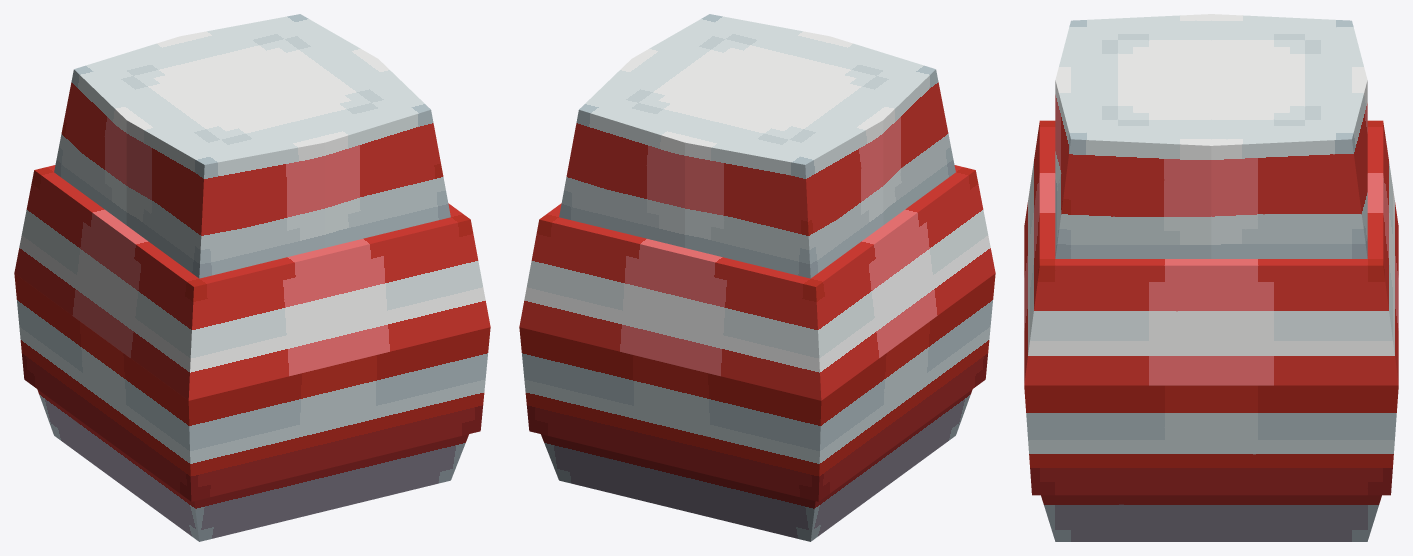
File: line-egg-2.gltf
3 renders of one model, left to right at view 1: azimuth 30°, elevation 25°; view 2: azimuth 150°, elevation 25°; view 3: azimuth 270°, elevation 25°, orthographic. The views are drawn at different scales.
Parts seen in each view (by area): view 1: cube (×3); view 2: cube (×3); view 3: cube (×3).
Boxes of the visible parts, <box> form: cube (×3): <box>14,14,490,541</box>; cube (×3): <box>519,14,995,541</box>; cube (×3): <box>1024,14,1398,541</box>.
Size of the model in its own units: 0.75 by 0.875 by 0.75.
Materials: 1 (1 with a texture image).
